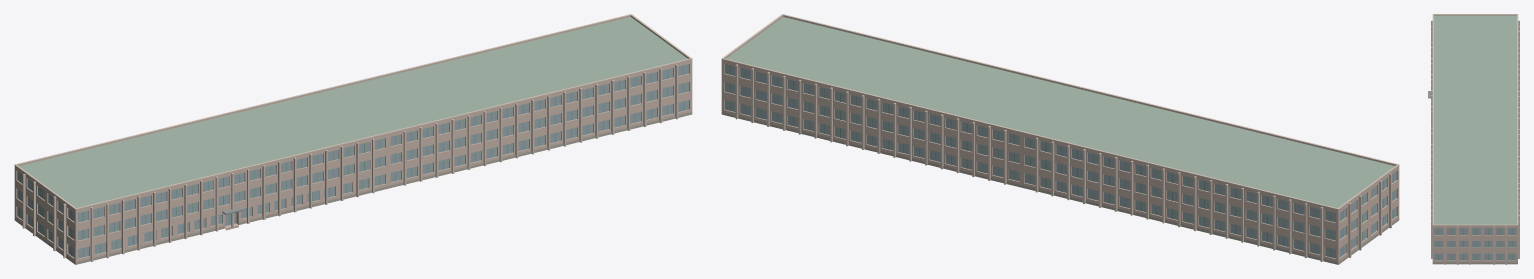
3 renders of one model, left to right at view 1: azimuth 30°, elevation 25°; view 2: azimuth 150°, elevation 25°; view 3: azimuth 270°, elevation 25°, orthographic. The views are drawn at different scales.
Parts seen in each view (by area): view 1: b115951791__roof, b115951791__wall, b115951791__glass, b115951791__trim, b115951791__parapet, b115951791__base, b115951791__frame; view 2: b115951791__roof, b115951791__wall, b115951791__glass, b115951791__trim, b115951791__parapet, b115951791__base, b115951791__frame; view 3: b115951791__roof, b115951791__wall, b115951791__trim, b115951791__glass, b115951791__parapet, b115951791__base, b115951791__frame.
Boxes of the visible parts, x1=… form: b115951791__roof: x1=19, y1=17, x2=687, y2=207; b115951791__wall: x1=14, y1=60, x2=692, y2=264; b115951791__glass: x1=17, y1=64, x2=689, y2=258; b115951791__trim: x1=14, y1=14, x2=692, y2=261; b115951791__parapet: x1=14, y1=15, x2=692, y2=210; b115951791__base: x1=14, y1=112, x2=692, y2=264; b115951791__frame: x1=19, y1=65, x2=683, y2=256; b115951791__roof: x1=726, y1=17, x2=1394, y2=207; b115951791__wall: x1=721, y1=60, x2=1399, y2=264; b115951791__glass: x1=724, y1=64, x2=1396, y2=258; b115951791__trim: x1=721, y1=14, x2=1399, y2=261; b115951791__parapet: x1=721, y1=15, x2=1399, y2=210; b115951791__base: x1=721, y1=112, x2=1399, y2=264; b115951791__frame: x1=730, y1=65, x2=1393, y2=257; b115951791__roof: x1=1434, y1=15, x2=1516, y2=224; b115951791__wall: x1=1432, y1=226, x2=1517, y2=262; b115951791__trim: x1=1431, y1=14, x2=1519, y2=264; b115951791__glass: x1=1434, y1=228, x2=1516, y2=260; b115951791__parapet: x1=1433, y1=14, x2=1517, y2=226; b115951791__base: x1=1432, y1=262, x2=1517, y2=264; b115951791__frame: x1=1438, y1=228, x2=1512, y2=259.
Size of the model in its own units: 130 by 11.55 by 23.72.
